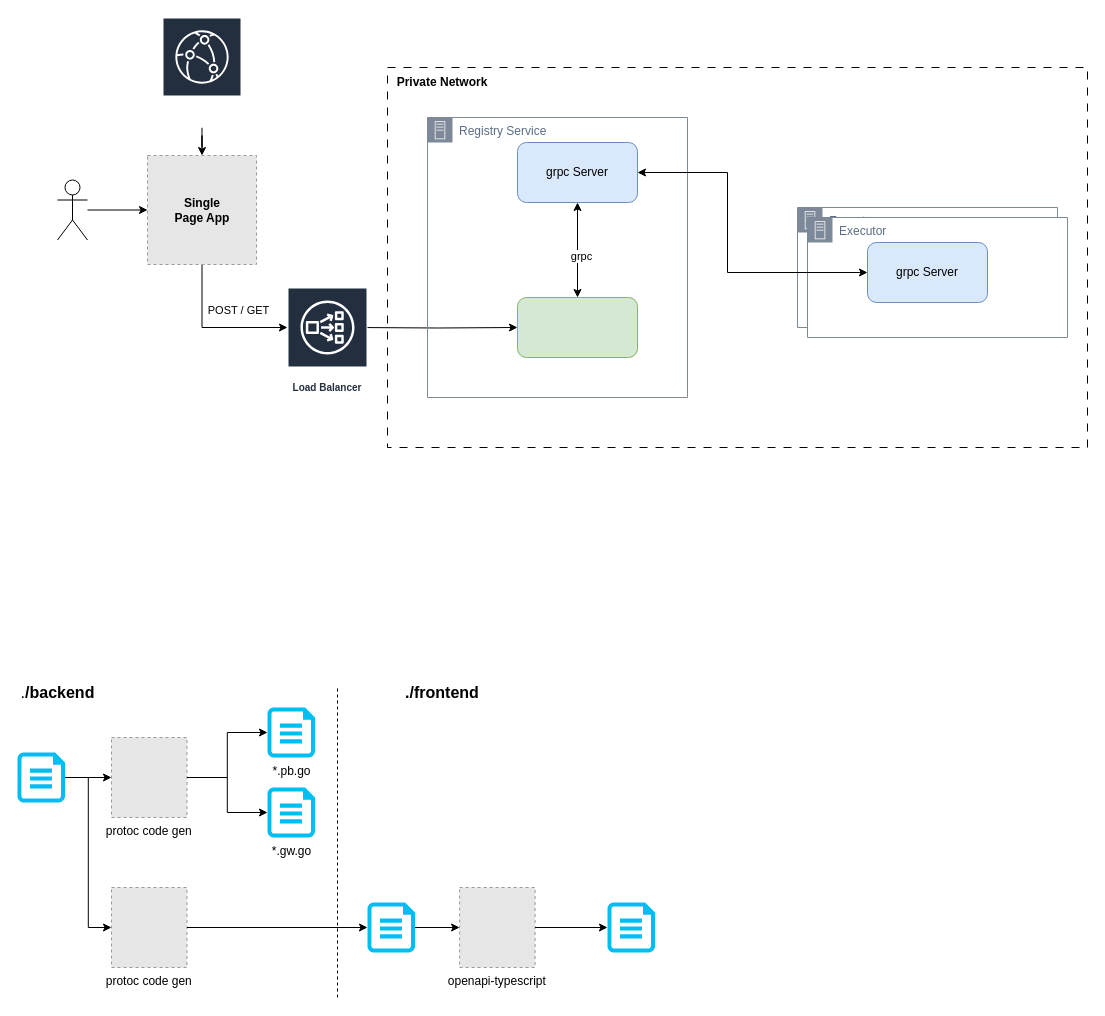
Image size: 1105x1016. Some labels were removed from this diagram. Grey dashed boxes stand in for pictures. The centre of each missing label's shape, as x and y in pixels:
.proto: (x=40, y=777)
.yml: (x=390, y=927)
Actor: (x=72, y=209)
CDN: (x=202, y=72)
HTTP Server: (x=577, y=327)
types.d.ts: (x=630, y=927)
